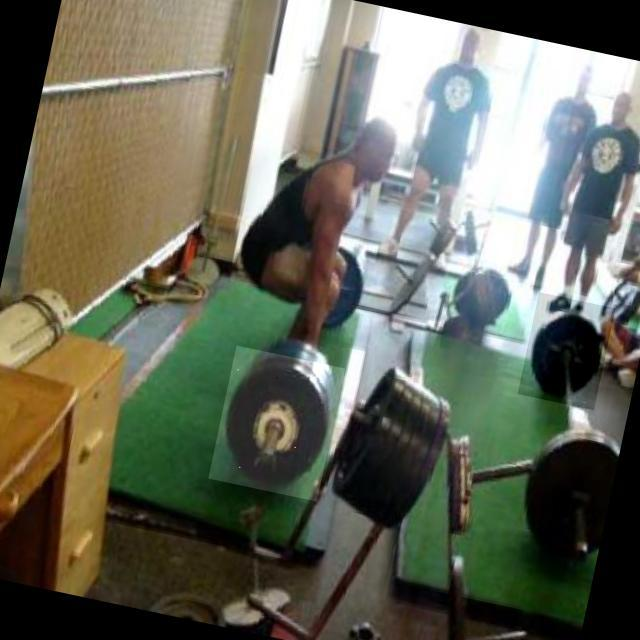barbell: (209, 346, 346, 502), (518, 293, 616, 411)
